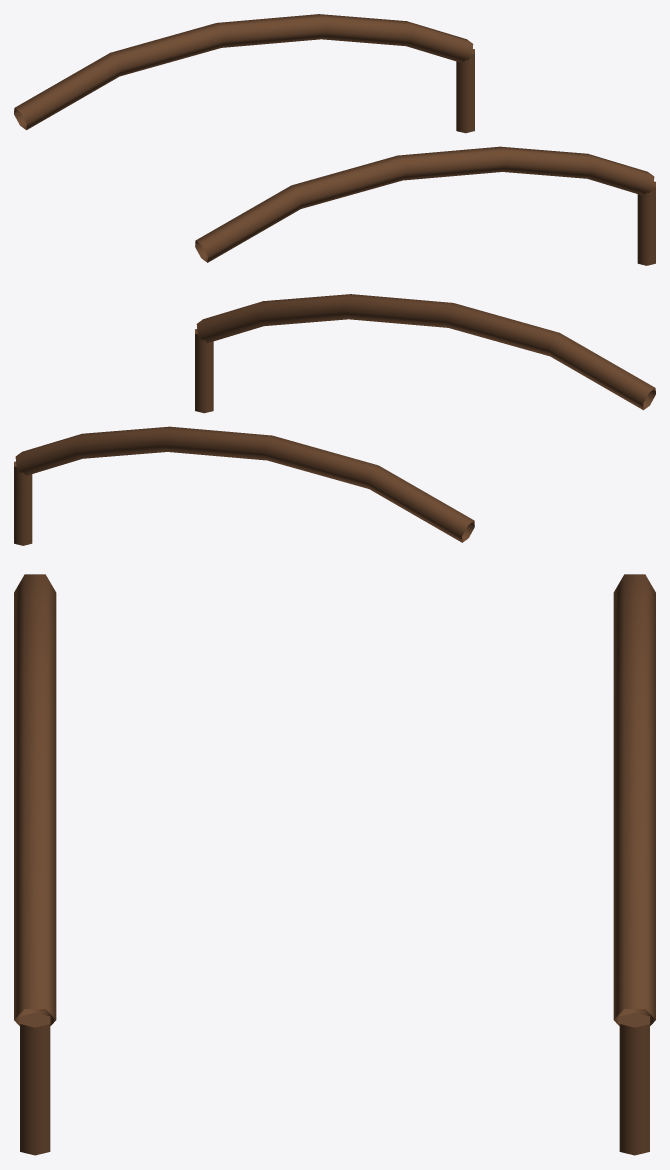
The model's file is k1_iako.obj.
3 renders of one model, top to bottom at view 1: azimuth 30°, elevation 25°; view 2: azimuth 150°, elevation 25°; view 3: azimuth 270°, elevation 25°, orthographic. The views are drawn at different scales.
Parts seen in each view (by area): view 1: k1_iako; view 2: k1_iako; view 3: k1_iako.
Part boxes in pixels (x1,y1,x2,y2): k1_iako: (14, 14, 655, 265); k1_iako: (14, 294, 655, 545); k1_iako: (14, 574, 655, 1155).
Bounding box in the file's own units: 0.9913 × 0.3388 × 0.728.
